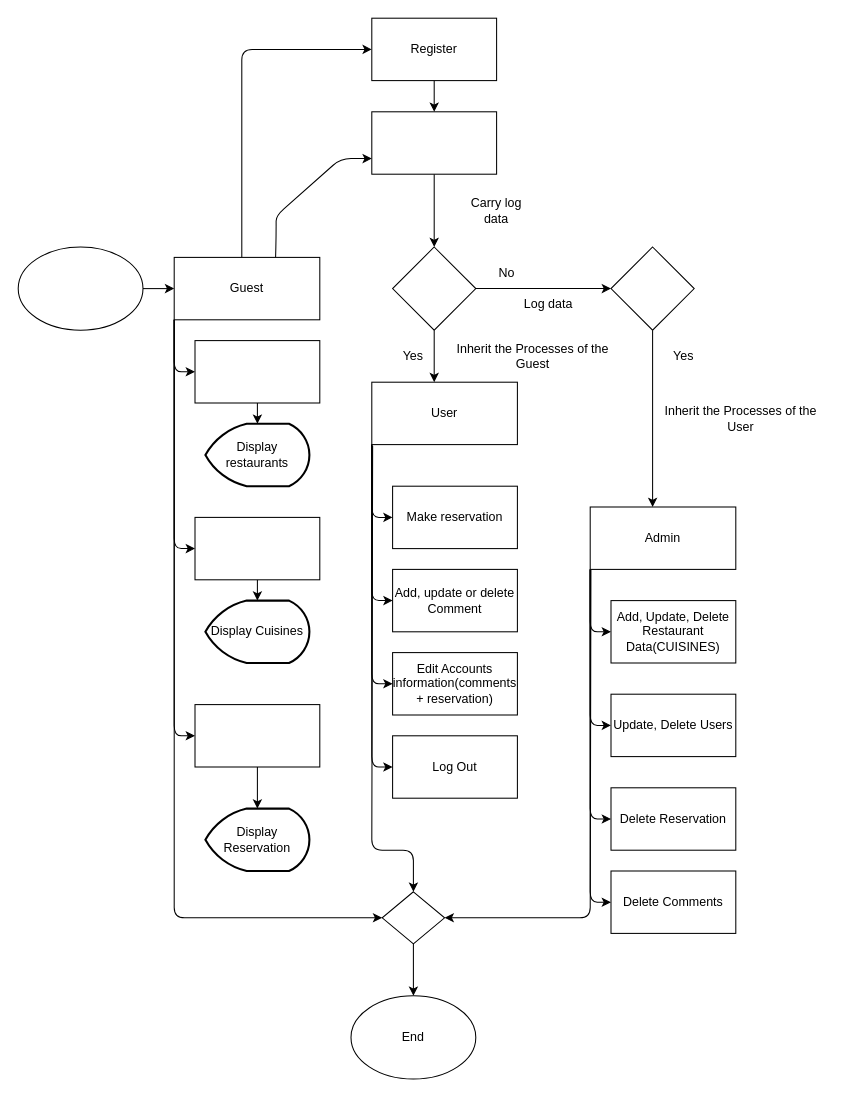
This 848x1097 diagram has some shape labels left out. The centre of each missing label's shape, as x and y in pixels:
"Exit?" goes at pixel 413 917.
"Is admin?" goes at pixel 652 288.
"Is user?" goes at pixel 434 288.
"Login" goes at pixel 434 142.
"Search Available reservation" goes at pixel 257 735.
"Search Cuisine" goes at pixel 257 548.
"Search Restaurant" goes at pixel 257 371.
"Start" goes at pixel 80 288.
